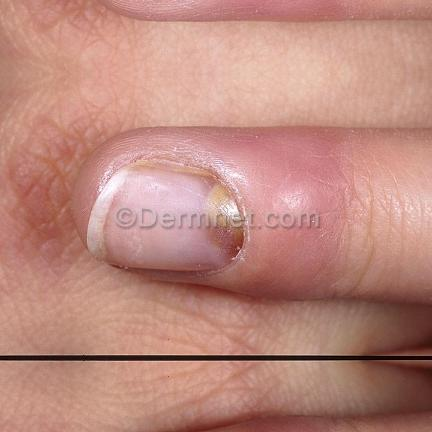Nail: (87, 163, 245, 273)
